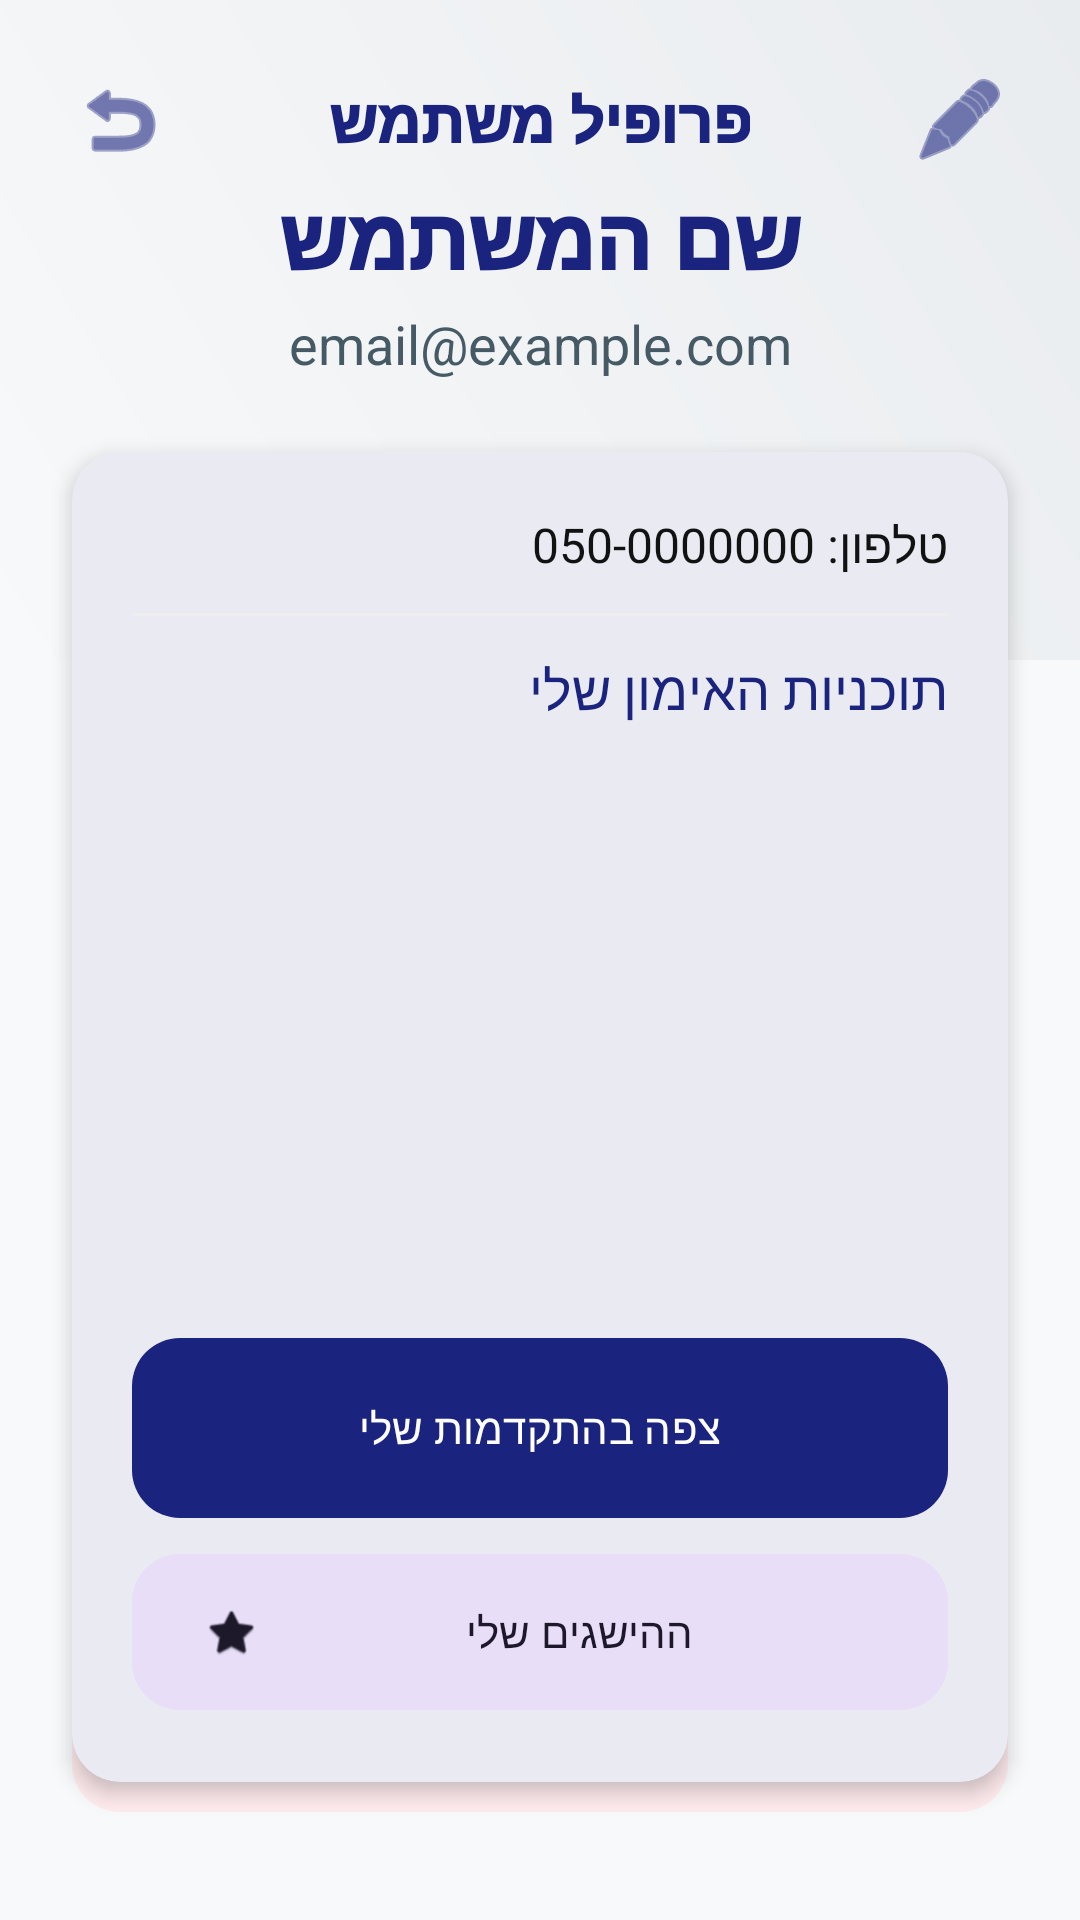

Icon bounding boxes for this 1080 × 1920 phone screenshot, format [left=x1, top=y1, right=x2, bottom=y2]:
edit: [left=919, top=79, right=1000, bottom=160]
חזרה: [left=87, top=89, right=156, bottom=152]
